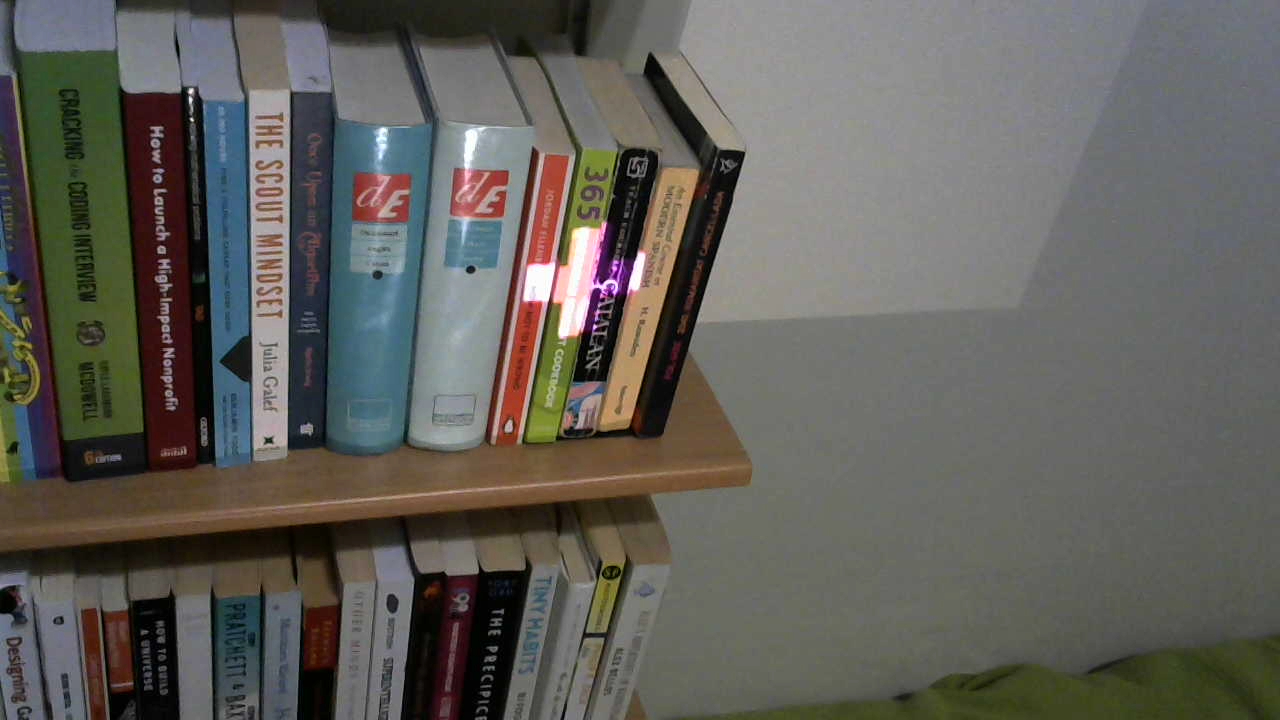calibration_symbol: (524, 225, 644, 337)
